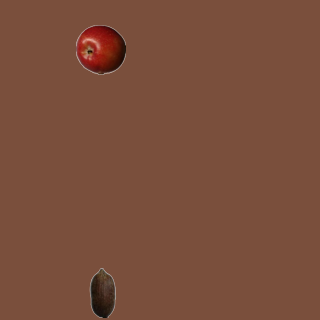Apple Braeburn: (75, 24, 125, 74)
Nut Pecan: (77, 267, 127, 317)
